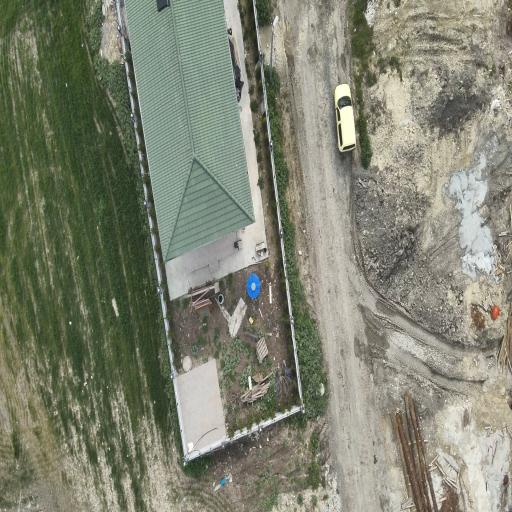car: (335, 84, 355, 151)
